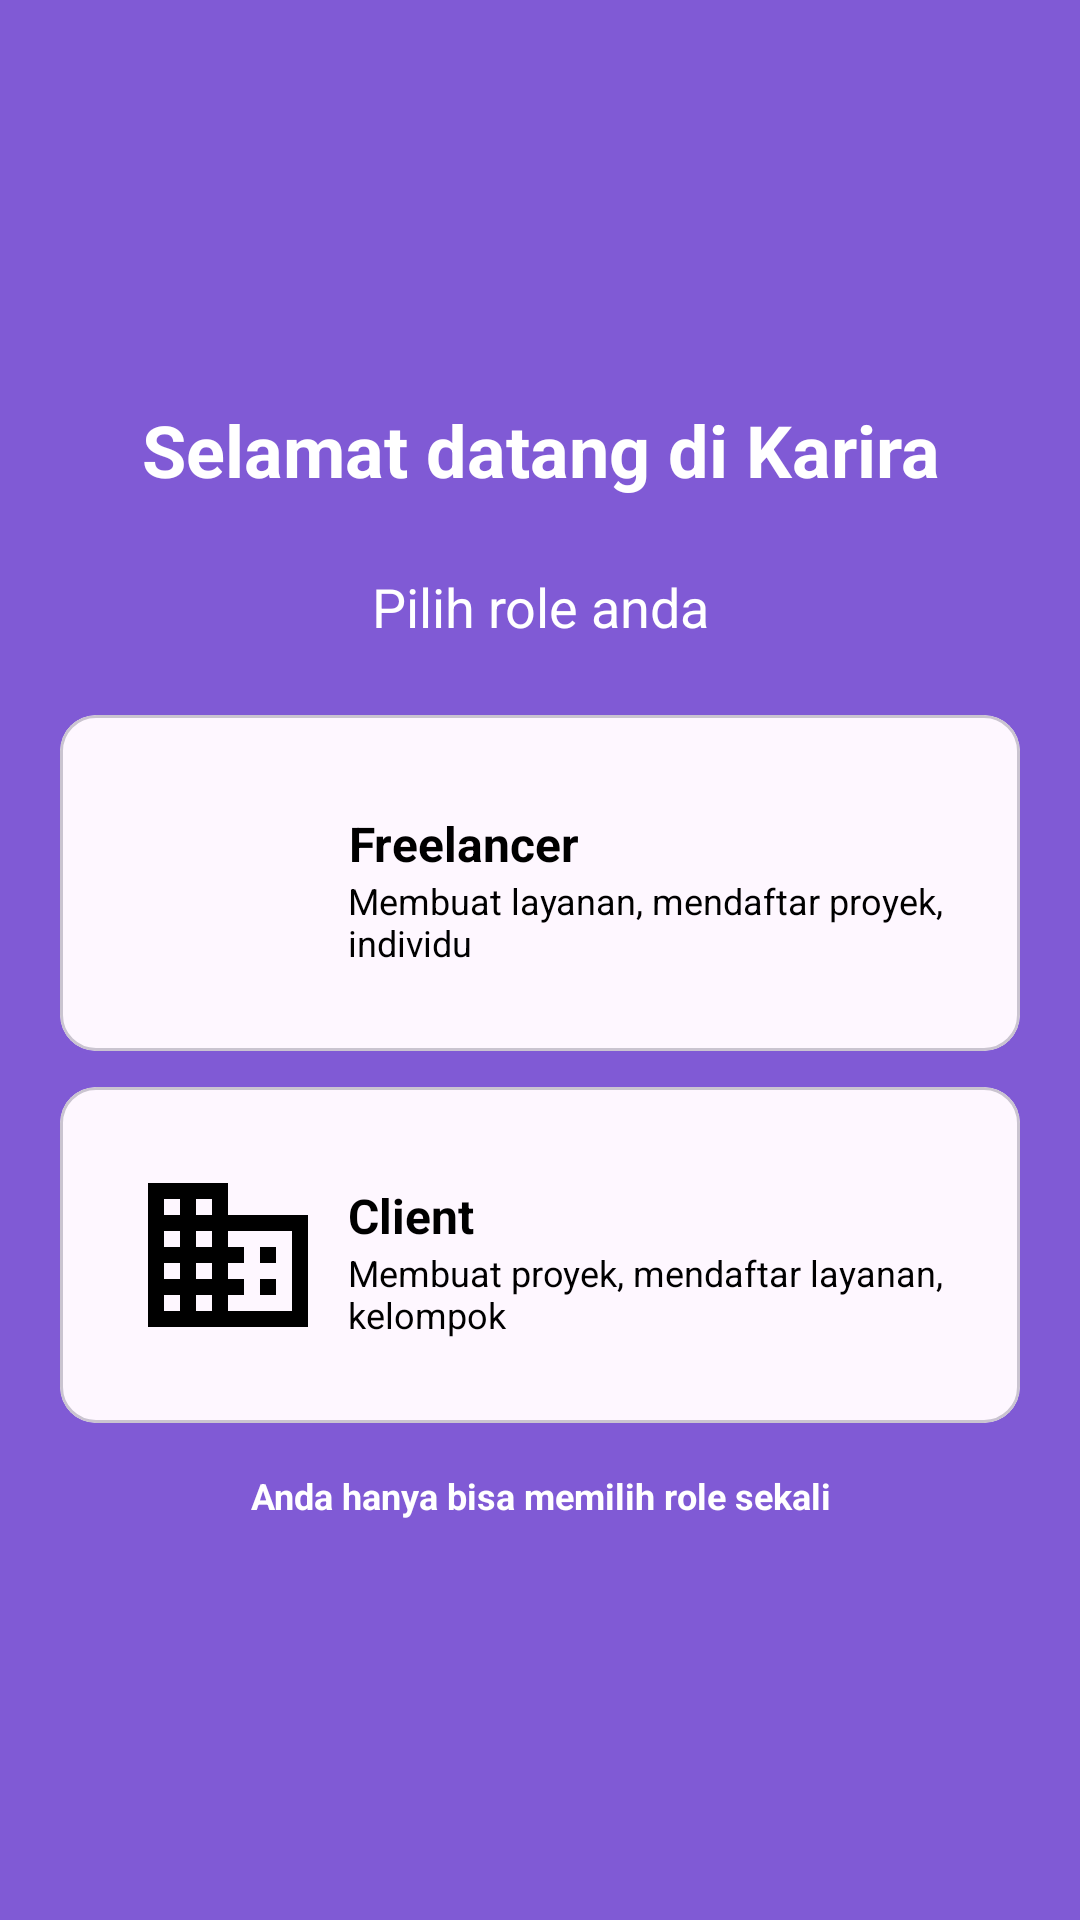

Where icons sit on this 1080x1920 app screen, as (x1, y1, x2, y2):
company: (148, 1183, 308, 1327)
